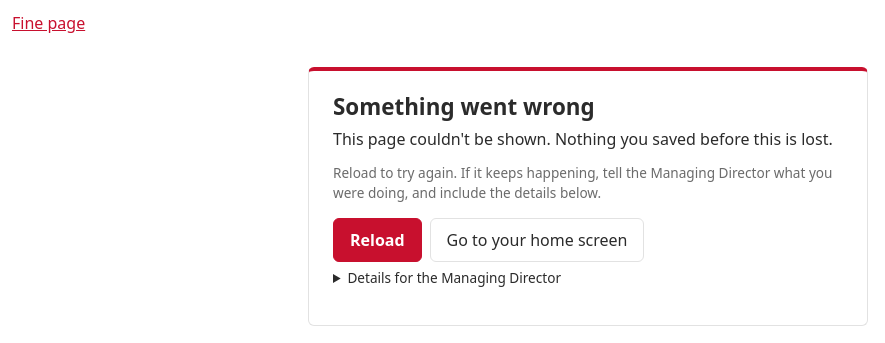
Test: error boundary (A-047) › keeps the menu working and recovers on the next page
Click the link "Fine page": coordinates (49, 23) [12,12,85,34]
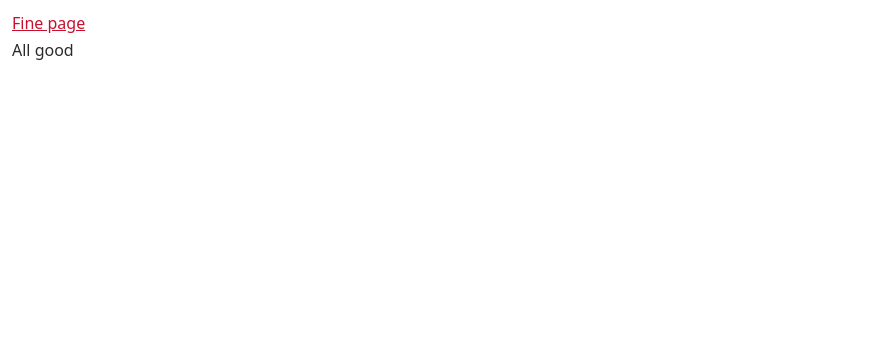
Now the text "All good" is shown, box [12,39,74,61]
Now the text "Something went wrong" is gone
